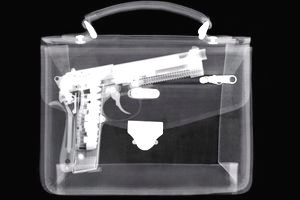gun: (55, 47, 209, 180)
